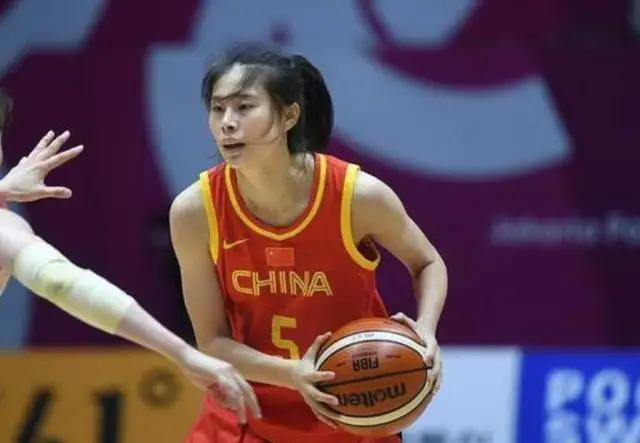ball: (313, 317, 434, 437)
